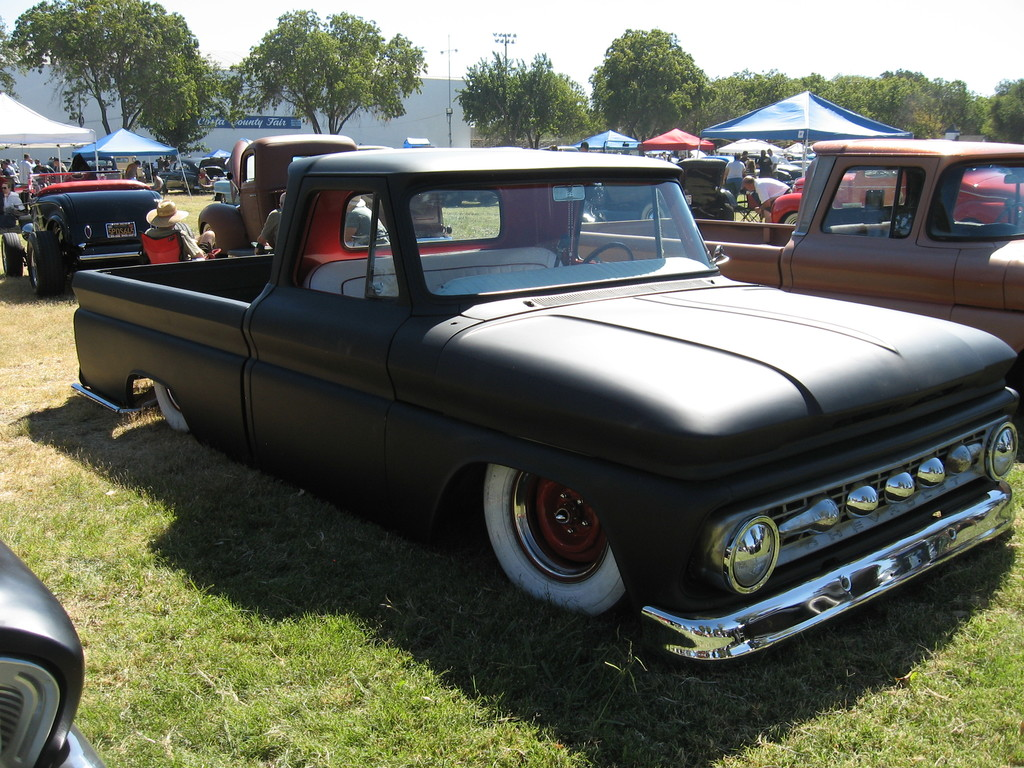Person: (0, 141, 792, 264)
